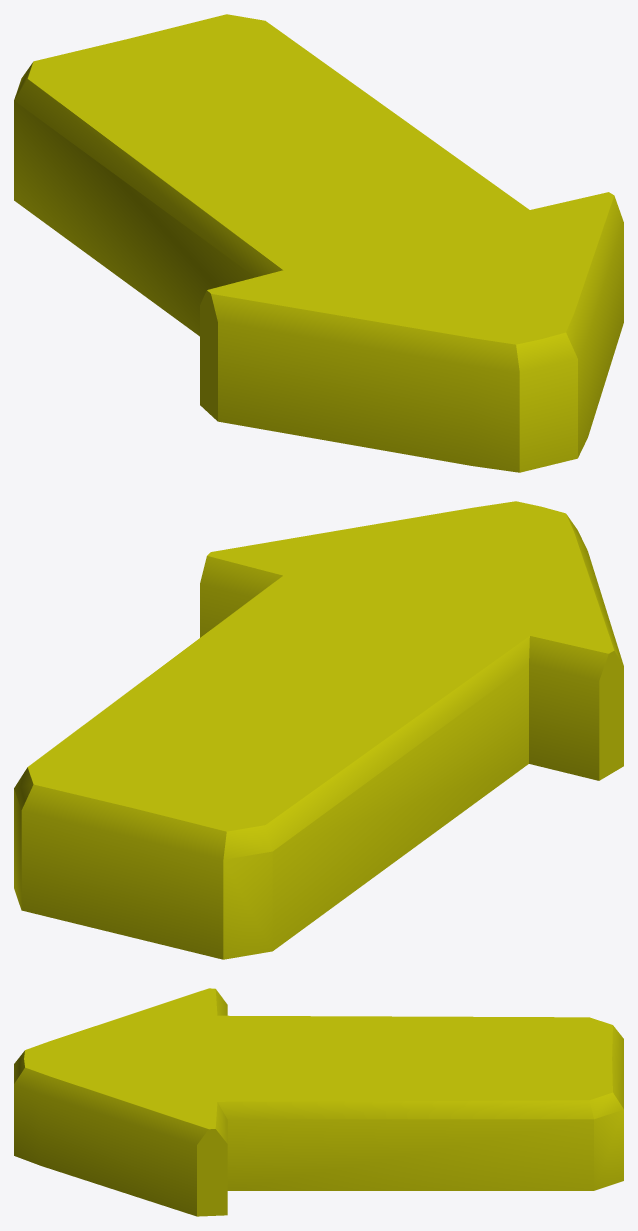
Rendered from 11-30_Arrow_v2.fbx.
3 views of the same model, one above another, from view 1: azimuth 30°, elevation 25°; view 2: azimuth 150°, elevation 25°; view 3: azimuth 270°, elevation 25° (orthographic). The views are drawn at different scales.
Visible parts, largest first — view 1: Mesh; view 2: Mesh; view 3: Mesh.
Boxes of the visible parts, x1,y1,x2,y2 form: Mesh: (14, 14, 623, 472); Mesh: (14, 501, 623, 959); Mesh: (14, 988, 623, 1216).
Bounding box in the file's own units: 55 × 15.71 × 100.
